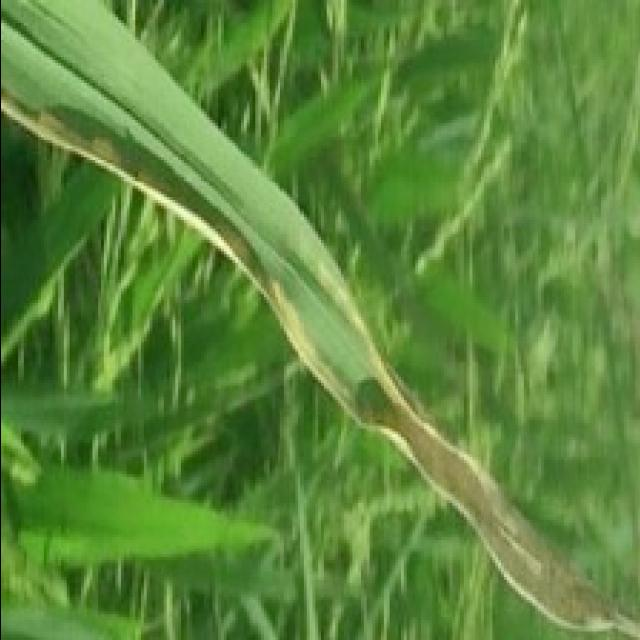Unhealthy: (0, 88, 639, 636)
